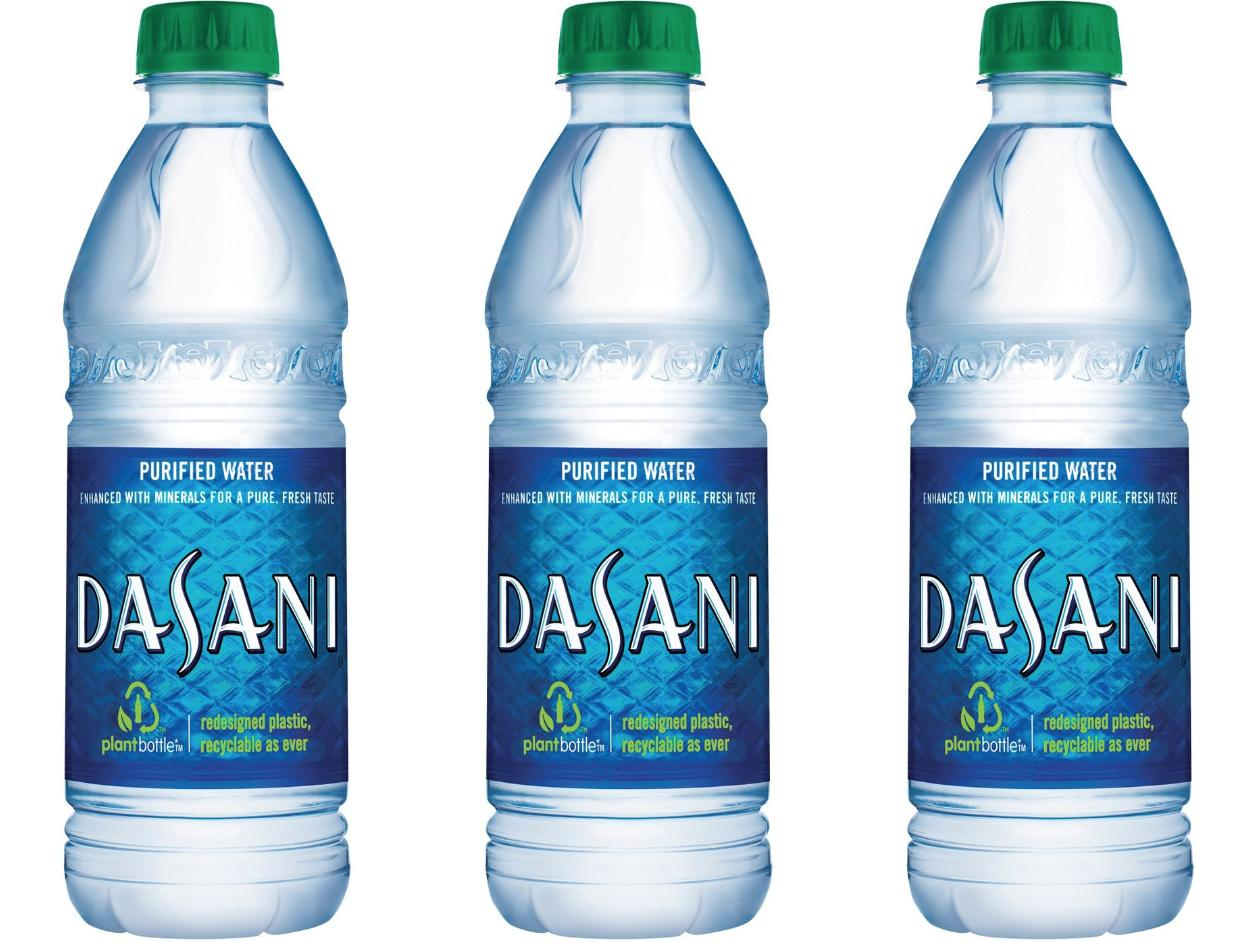bottle: (0, 0, 778, 942), (1, 0, 362, 942), (891, 0, 1205, 942)
